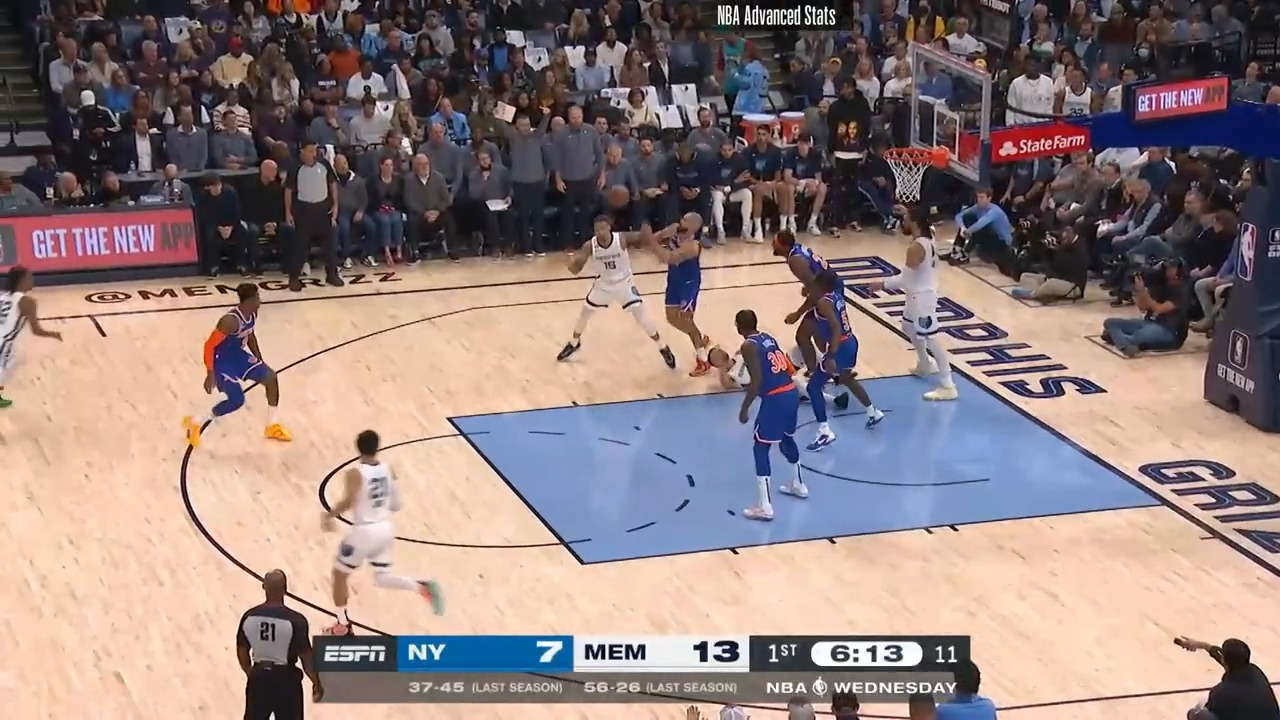net: (883, 140, 952, 204)
player: (315, 425, 450, 634), (720, 306, 813, 524), (179, 283, 295, 452), (865, 205, 958, 408), (559, 214, 674, 373), (787, 274, 882, 438), (644, 211, 721, 382), (768, 230, 847, 373), (1, 266, 65, 433)
referee: (233, 563, 329, 718), (1170, 624, 1280, 720), (281, 140, 341, 291)
